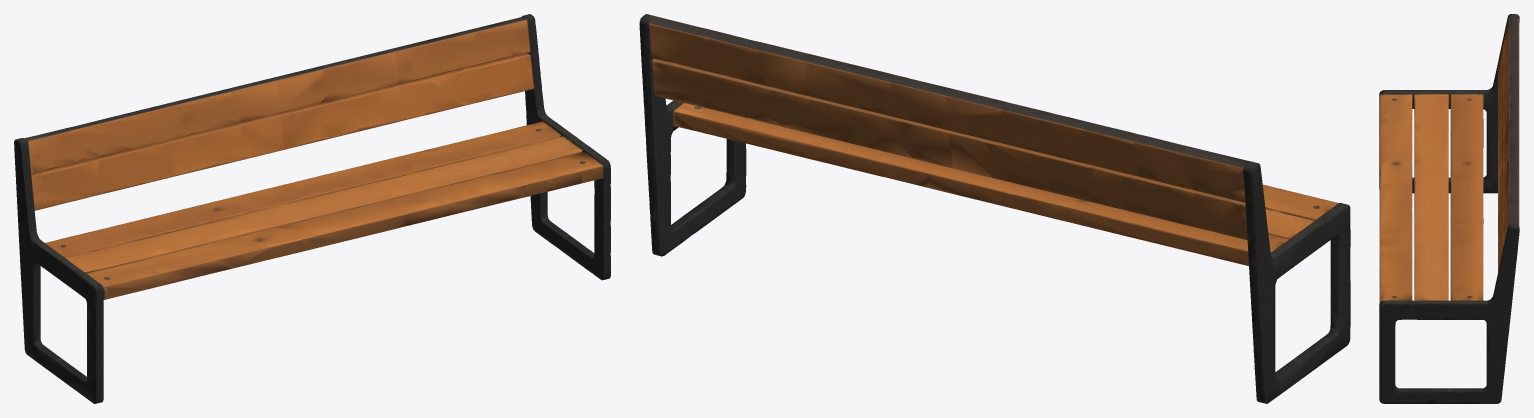
Rendered from benchw.glb.
3 views of the same model, side by side, from view 1: azimuth 30°, elevation 25°; view 2: azimuth 150°, elevation 25°; view 3: azimuth 270°, elevation 25° (orthographic). The views are drawn at different scales.
Parts seen in each view (by area): view 1: mesh_node; view 2: mesh_node; view 3: mesh_node.
Part boxes in pixels (x1=…): mesh_node: x1=14, y1=14, x2=610, y2=403; mesh_node: x1=639, y1=14, x2=1350, y2=403; mesh_node: x1=1379, y1=14, x2=1519, y2=403.
Bounding box in the file's own units: 1.9 × 0.7335 × 0.5285.
Materials: 1 (1 with a texture image).
